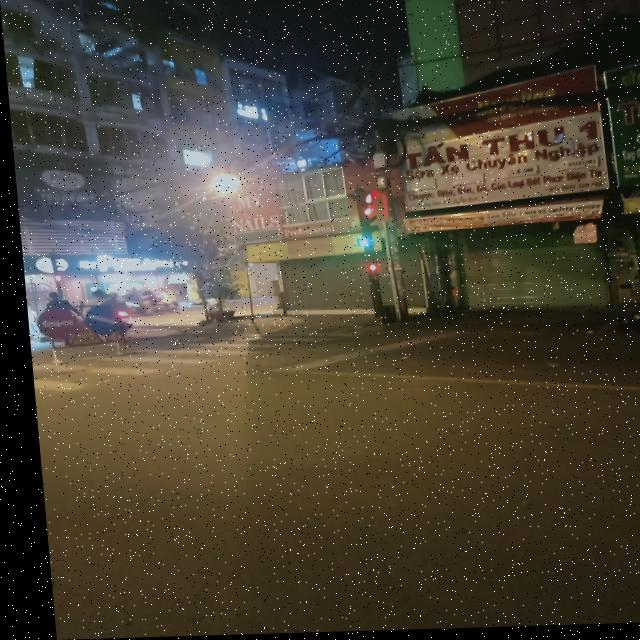Red: (351, 209, 380, 243), (359, 262, 381, 290)
